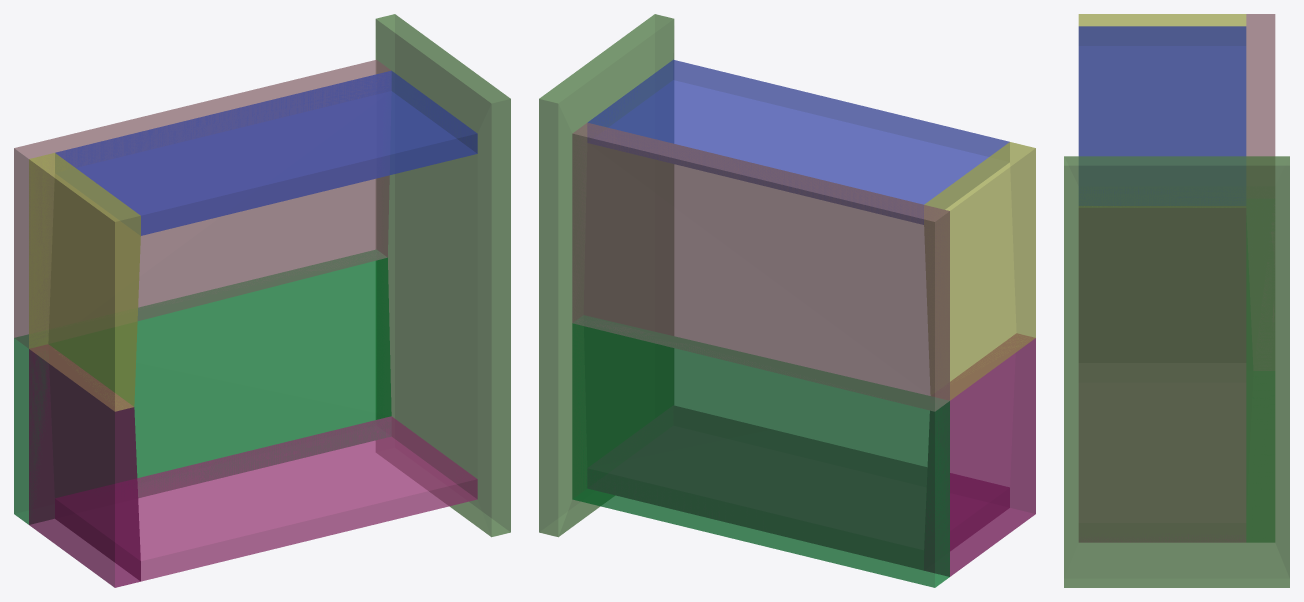
Rendered from Drawer_60_29.obj.
The picture shows the model from 3 angles, left to right: view 1: azimuth 30°, elevation 25°; view 2: azimuth 150°, elevation 25°; view 3: azimuth 270°, elevation 25°; orthographic projection. The views are drawn at different scales.
Visible parts, largest first — view 1: Shape_IndexedFaceSet_Shape_IndexedFaceSet.091; view 2: Shape_IndexedFaceSet_Shape_IndexedFaceSet.091; view 3: Shape_IndexedFaceSet_Shape_IndexedFaceSet.091.
Part boxes in pixels (x1,y1,x2,y2): Shape_IndexedFaceSet_Shape_IndexedFaceSet.091: (14,14,510,587); Shape_IndexedFaceSet_Shape_IndexedFaceSet.091: (539,14,1035,587); Shape_IndexedFaceSet_Shape_IndexedFaceSet.091: (1064,14,1289,587).
Bounding box in the file's own units: 0.5667 × 0.6044 × 0.2928.
